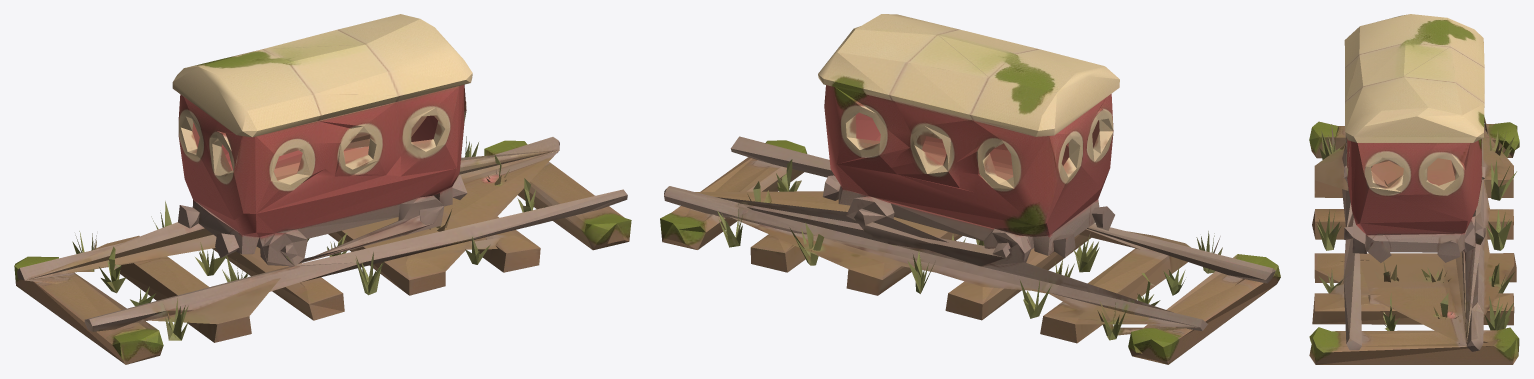
The model's file is meshy.glb.
The picture shows the model from 3 angles, left to right: view 1: azimuth 30°, elevation 25°; view 2: azimuth 150°, elevation 25°; view 3: azimuth 270°, elevation 25°; orthographic projection. The views are drawn at different scales.
Bounding box in the file's own units: 1.9 × 0.7189 × 0.7075.
1 material, 1 textured.
